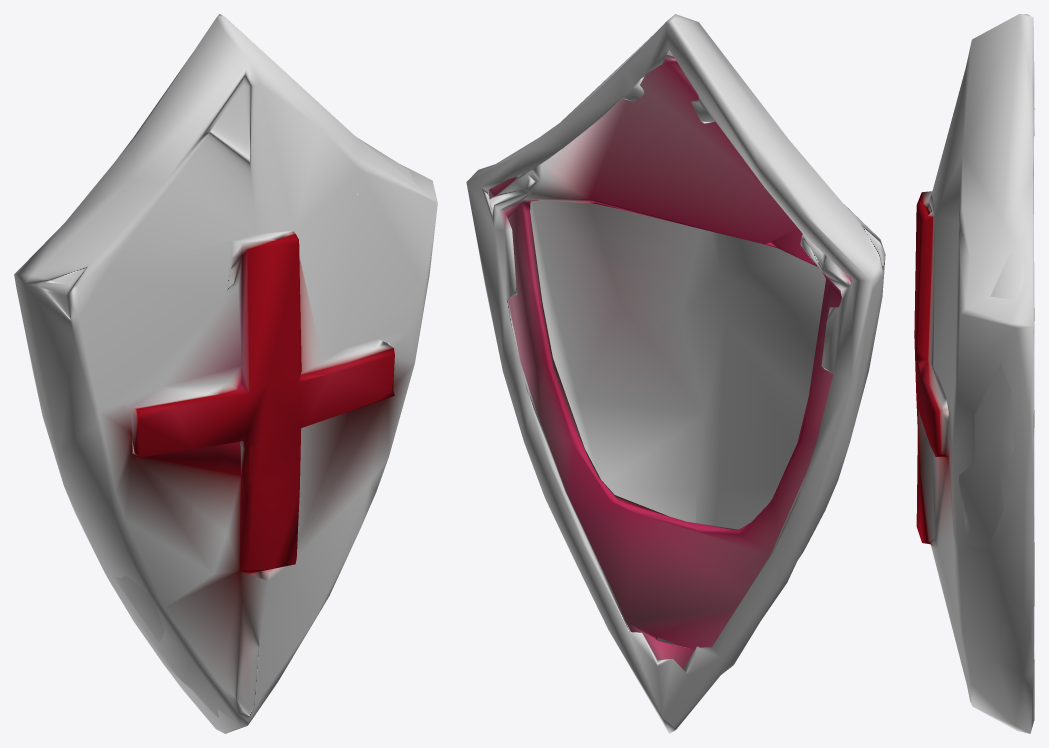
File: gen3d-kite-shield-lod1.glb
3 renders of one model, left to right at view 1: azimuth 30°, elevation 25°; view 2: azimuth 150°, elevation 25°; view 3: azimuth 270°, elevation 25°, orthographic.
Visible parts, largest first — view 1: part_0; view 2: part_0; view 3: part_0.
Boxes of the visible parts, x1,y1,x2,y2 form: part_0: (14,14,437,733); part_0: (466,14,885,733); part_0: (914,14,1034,733).
Bounding box in the file's own units: 0.5959 × 0.9981 × 0.151.
